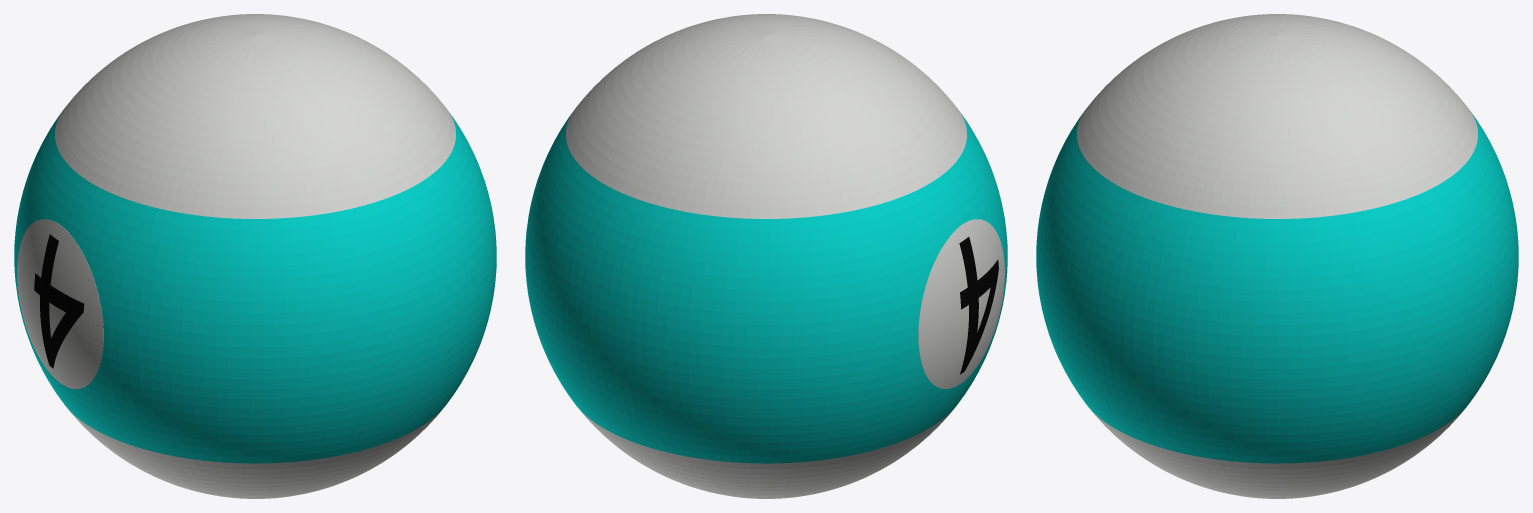
File: Ball#4.fbx
3 renders of one model, left to right at view 1: azimuth 30°, elevation 25°; view 2: azimuth 150°, elevation 25°; view 3: azimuth 270°, elevation 25°, orthographic.
Parts seen in each view (by area): view 1: Sphere, Sphere.001, Text; view 2: Sphere, Sphere.001, Text; view 3: Sphere.
Boxes of the visible parts, <box> form: Sphere: <box>14,14,496,498</box>; Sphere.001: <box>17,219,103,388</box>; Text: <box>34,234,84,368</box>; Sphere: <box>525,14,1007,498</box>; Sphere.001: <box>918,219,1004,388</box>; Text: <box>959,237,998,374</box>; Sphere: <box>1036,14,1518,498</box>.
Size of the model in its own units: 198 by 200 by 198.
